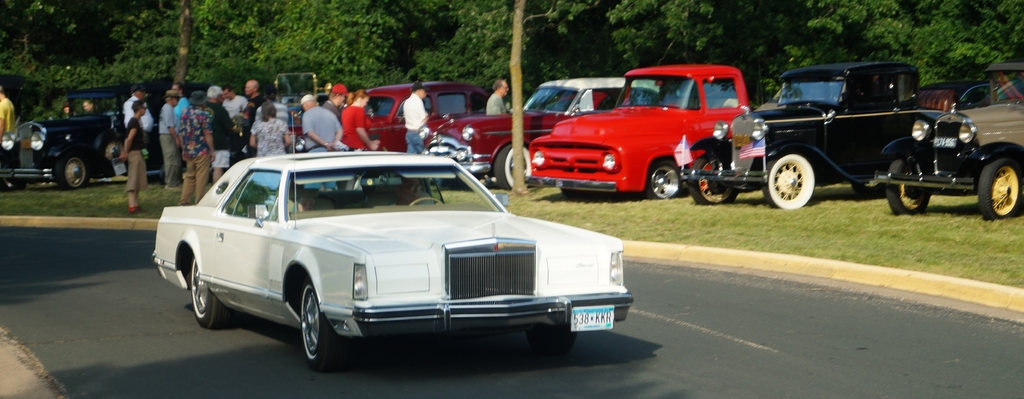Car: (0, 61, 1023, 222), (147, 138, 636, 362)
